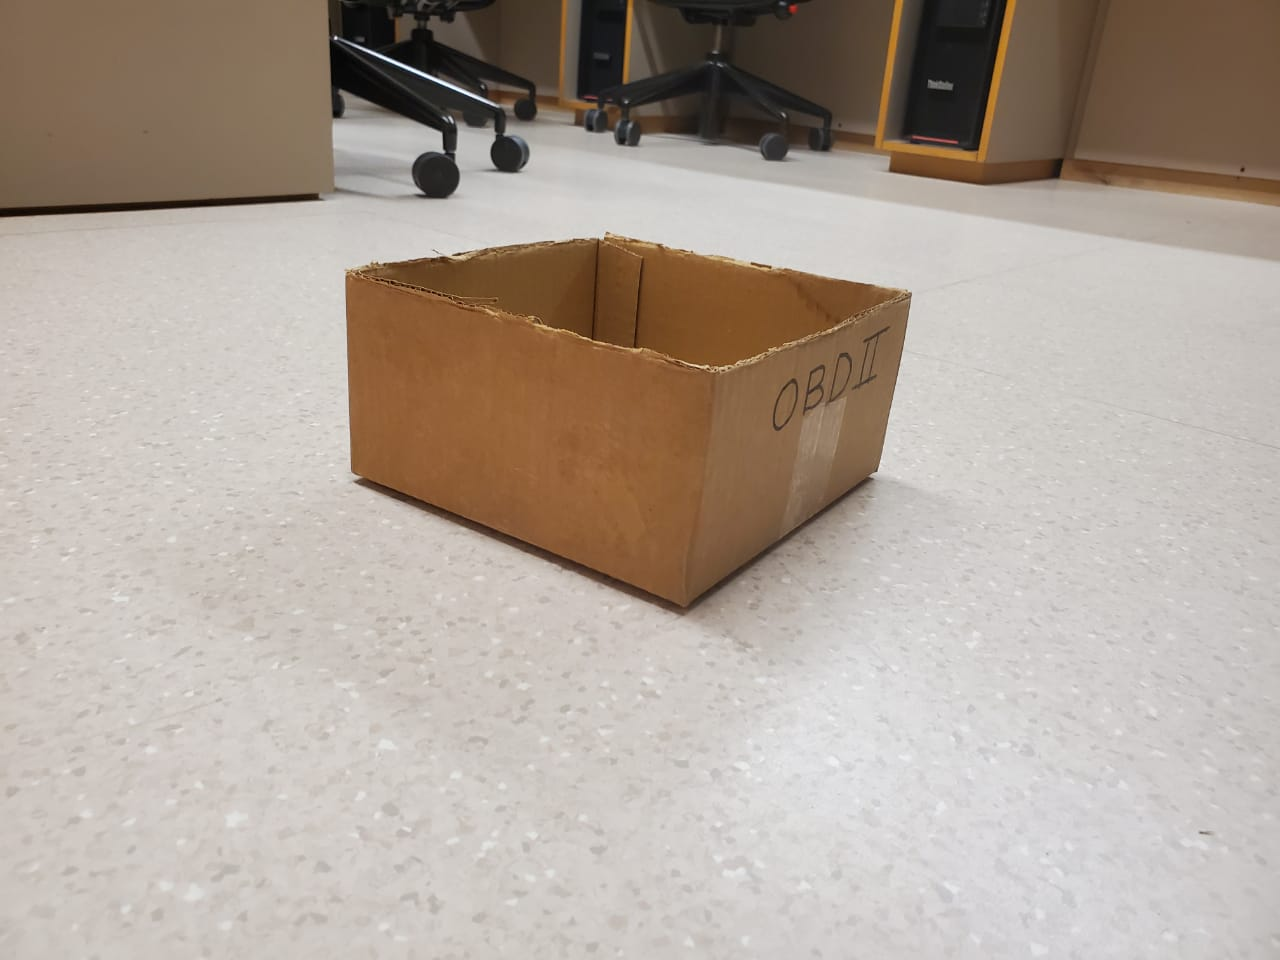CBox: (329, 230, 923, 624)
